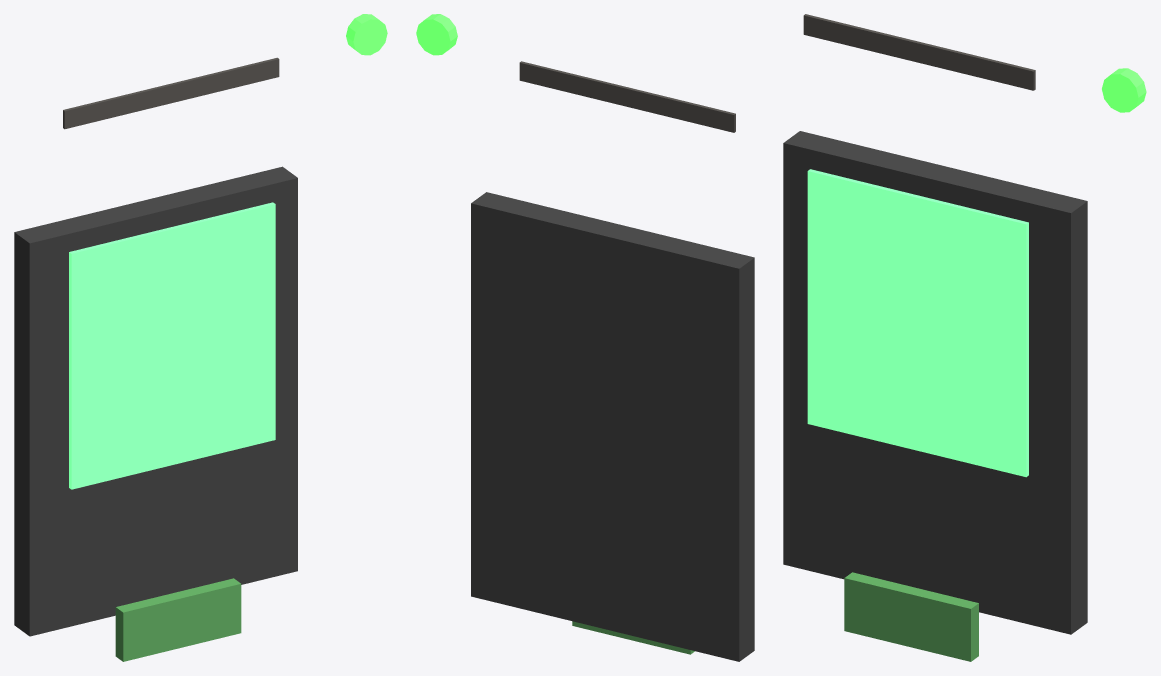
The model's file is PaintingConfirmTerminal.fbx.
3 views of the same model, side by side, from view 1: azimuth 30°, elevation 25°; view 2: azimuth 150°, elevation 25°; view 3: azimuth 330°, elevation 25° (orthographic). The views are drawn at different scales.
Visible parts, largest first — view 1: Terminal_Base, Terminal_Screen, Terminal_ConfirmBtn, Terminal_Bezel, Terminal_Indicator; view 2: Terminal_Base, Terminal_Bezel, Terminal_Indicator, Terminal_ConfirmBtn; view 3: Terminal_Base, Terminal_Screen, Terminal_ConfirmBtn, Terminal_Bezel, Terminal_Indicator.
Boxes of the visible parts, <box> form: Terminal_Base: <box>14,166,297,636</box>; Terminal_Screen: <box>69,202,275,489</box>; Terminal_ConfirmBtn: <box>115,578,241,661</box>; Terminal_Bezel: <box>63,57,279,129</box>; Terminal_Indicator: <box>346,14,387,55</box>; Terminal_Base: <box>471,192,754,661</box>; Terminal_Bezel: <box>519,61,735,132</box>; Terminal_Indicator: <box>416,14,457,55</box>; Terminal_ConfirmBtn: <box>572,621,694,654</box>; Terminal_Base: <box>783,131,1087,634</box>; Terminal_Screen: <box>807,169,1028,477</box>; Terminal_ConfirmBtn: <box>844,572,978,661</box>; Terminal_Bezel: <box>803,14,1035,90</box>; Terminal_Indicator: <box>1102,68,1146,112</box>.
Bounding box in the file's own units: 0.1605 × 0.257 × 0.0273.
